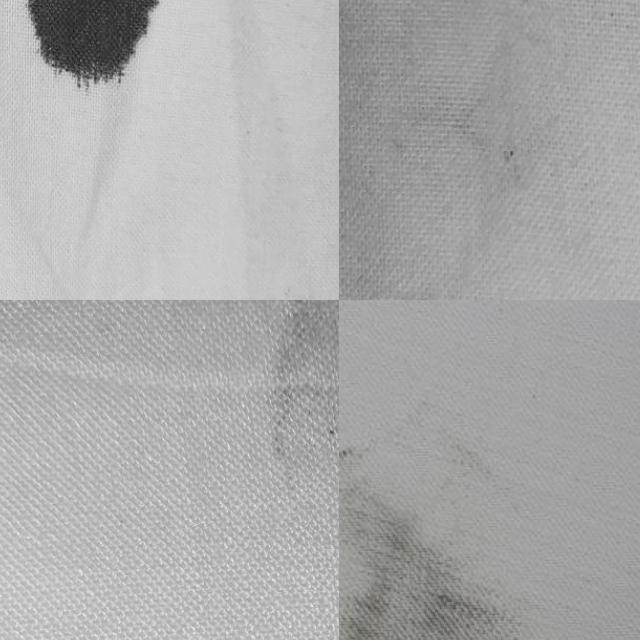Thread_other: (339, 384, 599, 640), (234, 300, 339, 522), (7, 0, 178, 102)
